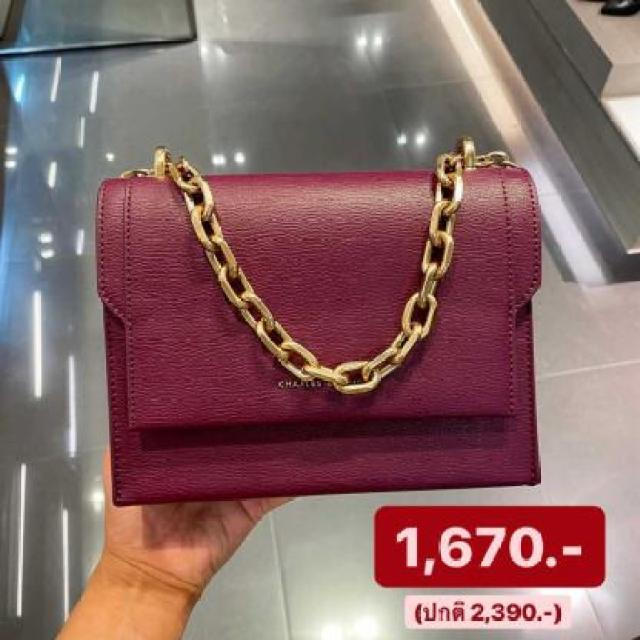Bag: (55, 128, 594, 509)
